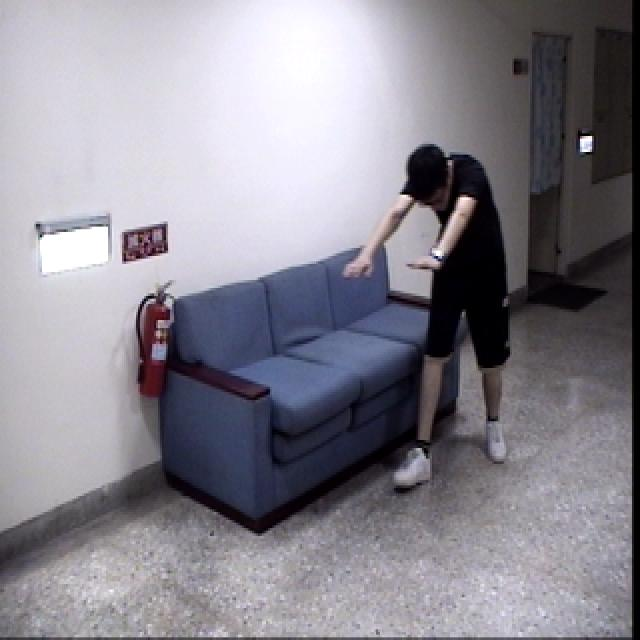bend: (334, 142, 532, 493)
